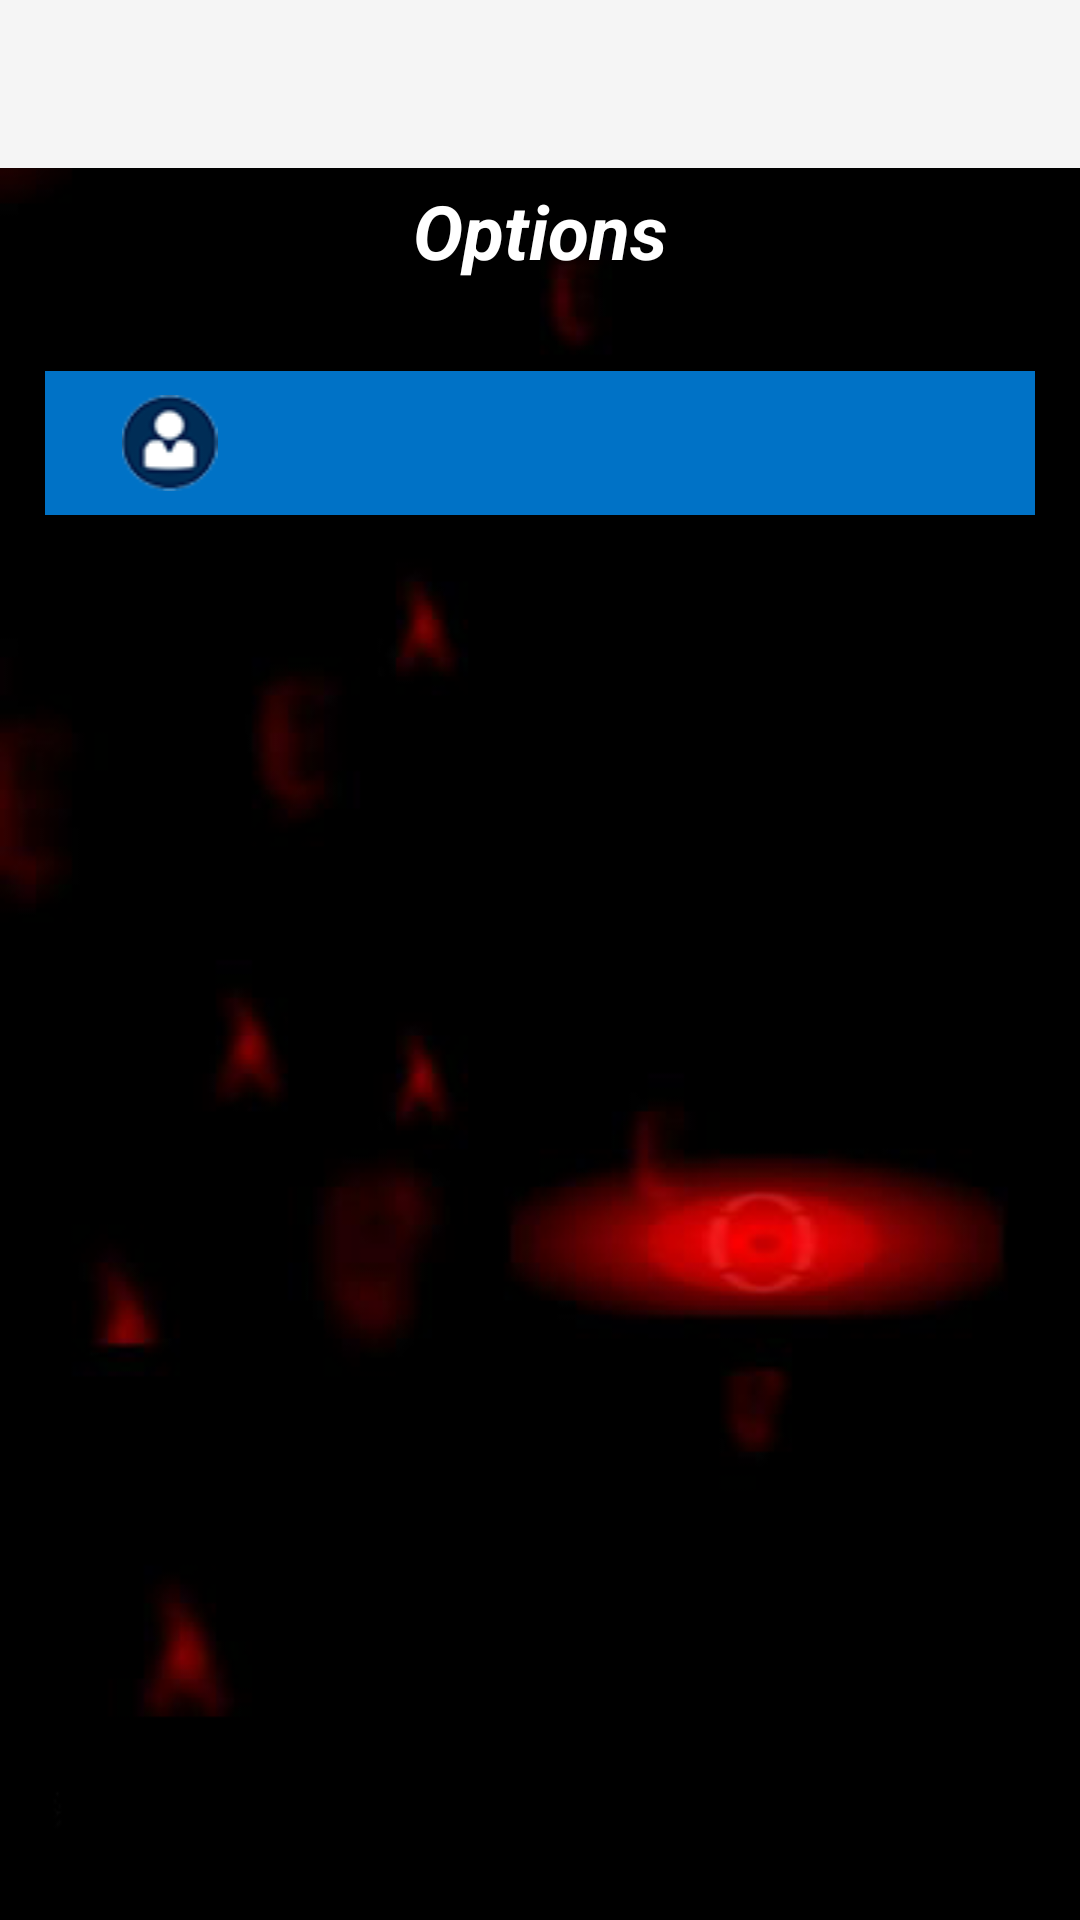

Icon bounding boxes for this 1080 x 1920 phone screenshot, format [x1=x1, y1=y1, x2=x2, y2=y2]:
user: [x1=122, y1=395, x2=218, y2=491]
